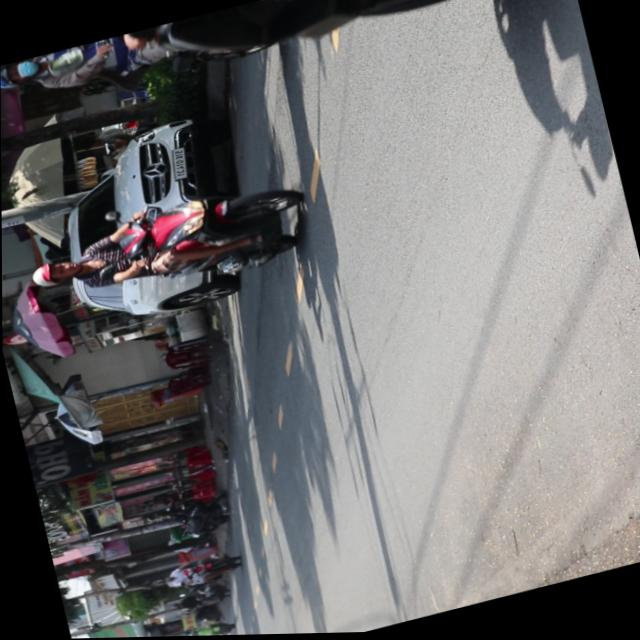helmet: (26, 253, 82, 291), (0, 55, 44, 91)
licenseplate: (18, 172, 316, 327)
